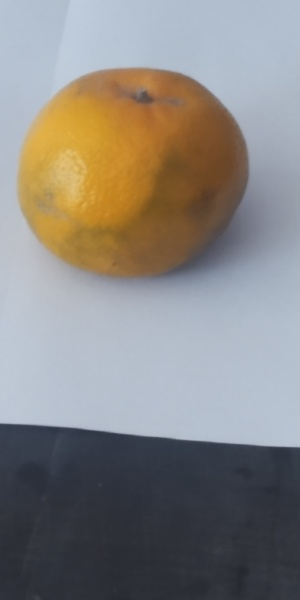BAD: (11, 64, 251, 282)
